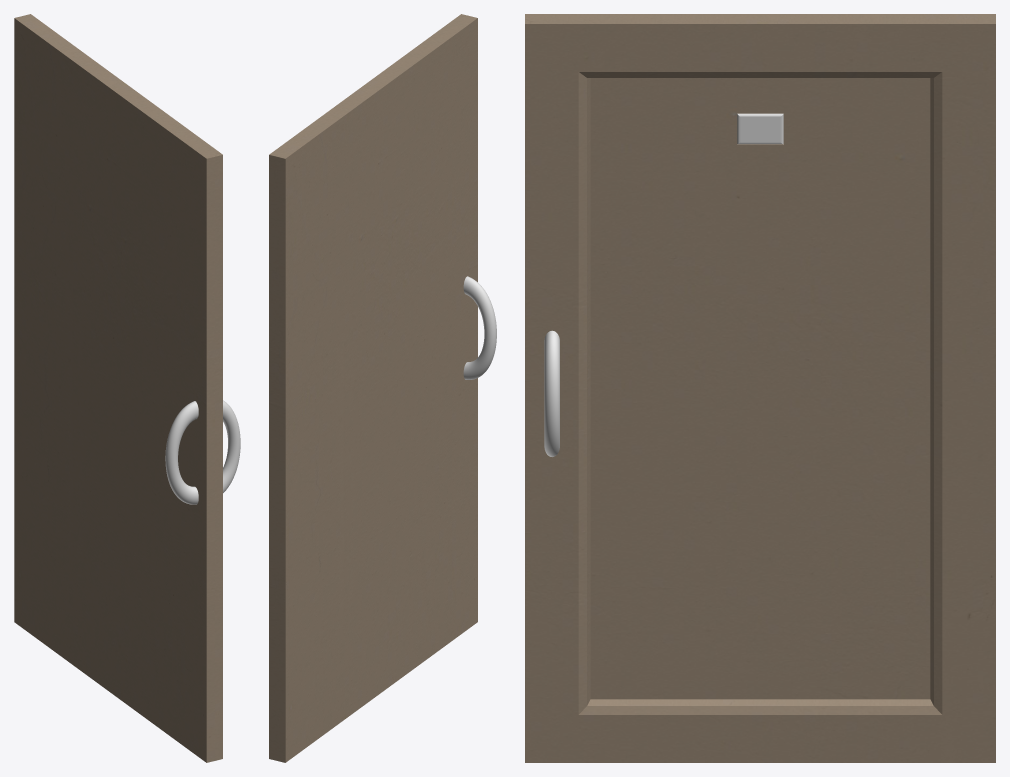
The model's file is Door.fbx.
3 renders of one model, left to right at view 1: azimuth 30°, elevation 25°; view 2: azimuth 150°, elevation 25°; view 3: azimuth 270°, elevation 25°, orthographic. The views are drawn at different scales.
Parts seen in each view (by area): view 1: Coupe Door, Door Handle Inside, Door Handle Outside; view 2: Coupe Door, Door Handle Inside; view 3: Coupe Door, Door Handle Outside.
Part boxes in pixels (box(x1,y1,x2,y2)): Coupe Door: box(14, 14, 222, 762); Door Handle Inside: box(165, 401, 198, 504); Door Handle Outside: box(223, 400, 240, 492); Coupe Door: box(269, 14, 477, 762); Door Handle Inside: box(463, 276, 496, 379); Coupe Door: box(525, 14, 995, 762); Door Handle Outside: box(544, 330, 559, 456).
Bounding box in the file's own units: 44.6 × 350 × 202.
